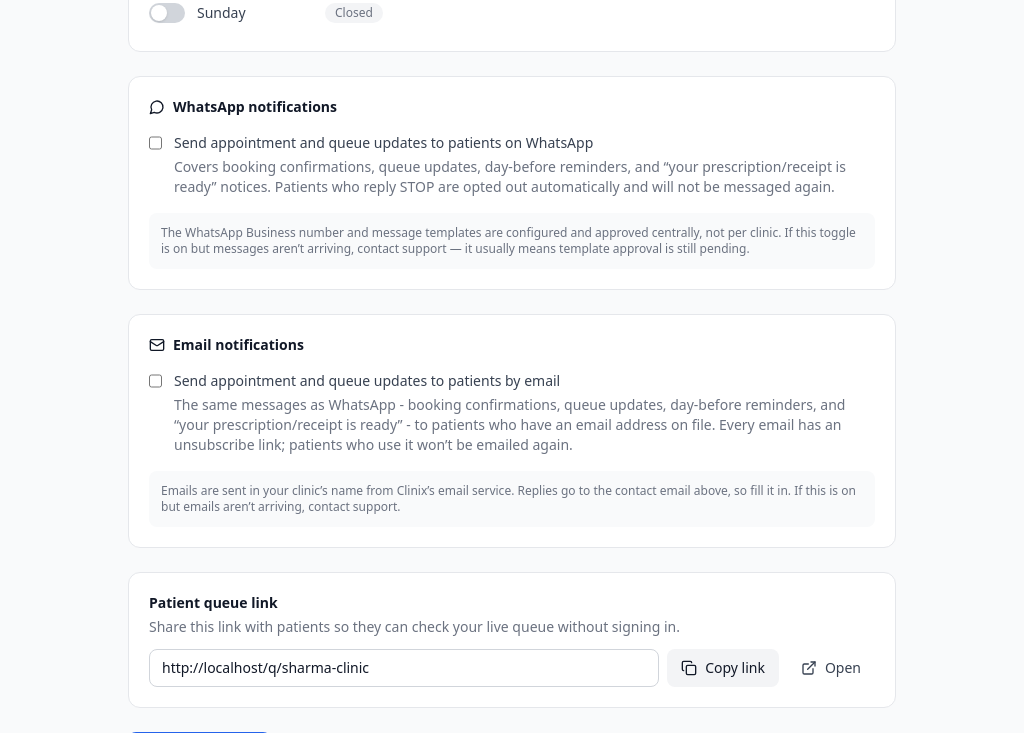
Test case: Clinic Settings - patient queue link › shows and copies the clinic public queue URL
The image size is (1024, 733).
(page scrolled)
Click the button "Copy link".
click(723, 668)  # box [667,649,779,687]
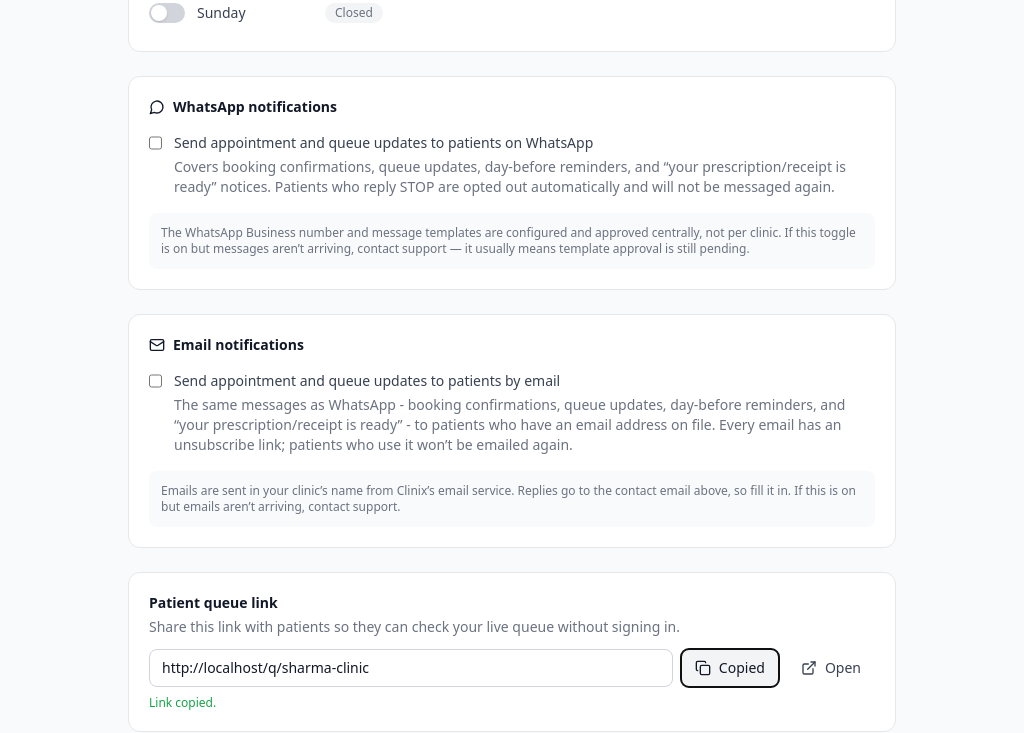
Result: the message reads "Link copied." at [149,694,216,711]
